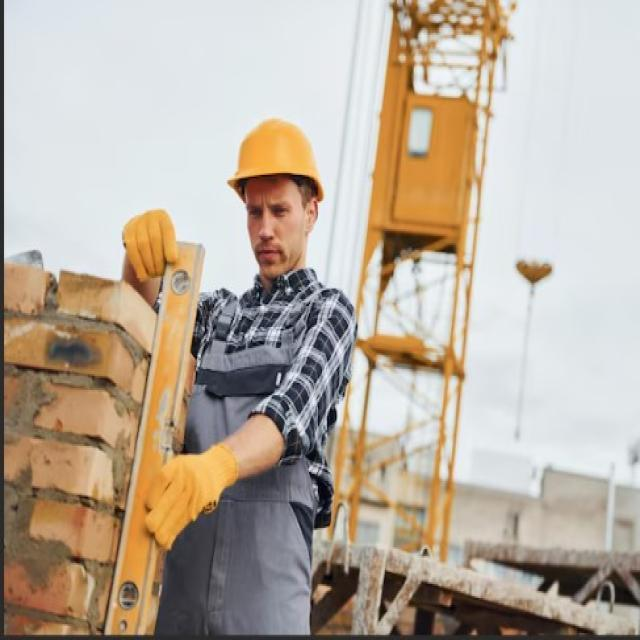not-gloved: (143, 442, 238, 551), (121, 208, 179, 282)
